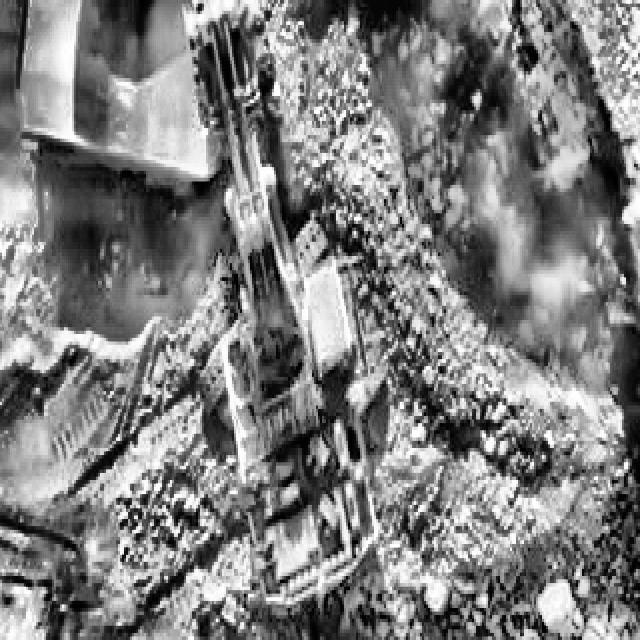excavator: (182, 0, 388, 626)
